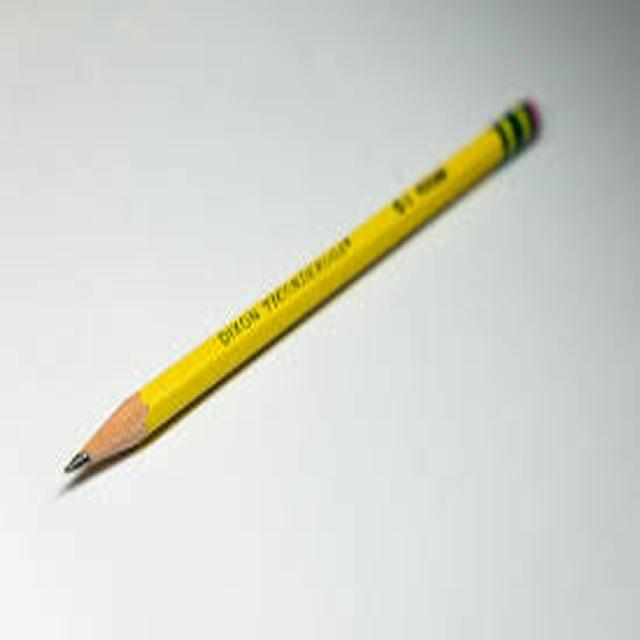pen: (48, 84, 551, 524)
